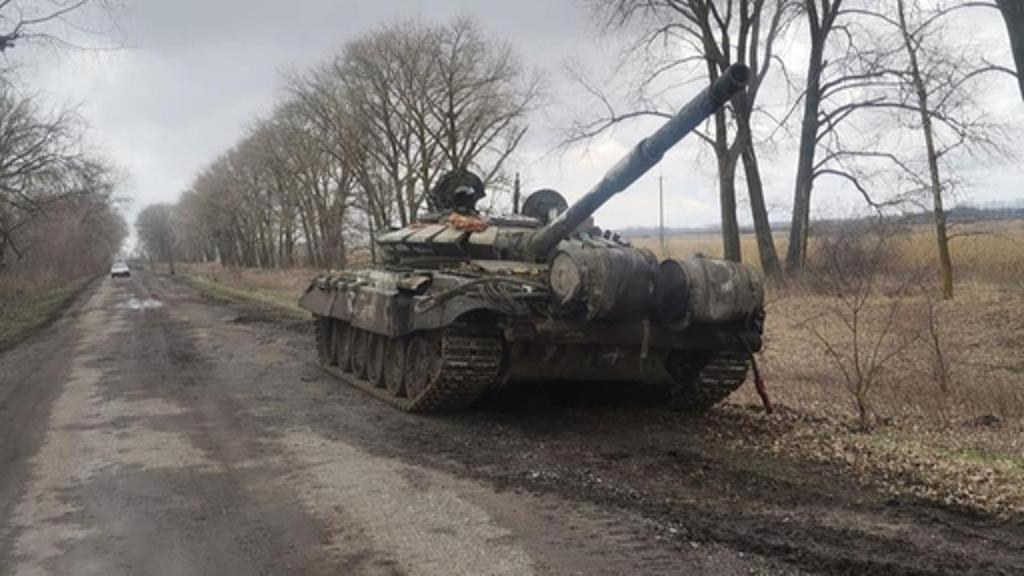CAR: (106, 256, 132, 278)
TANK: (290, 54, 784, 412)
